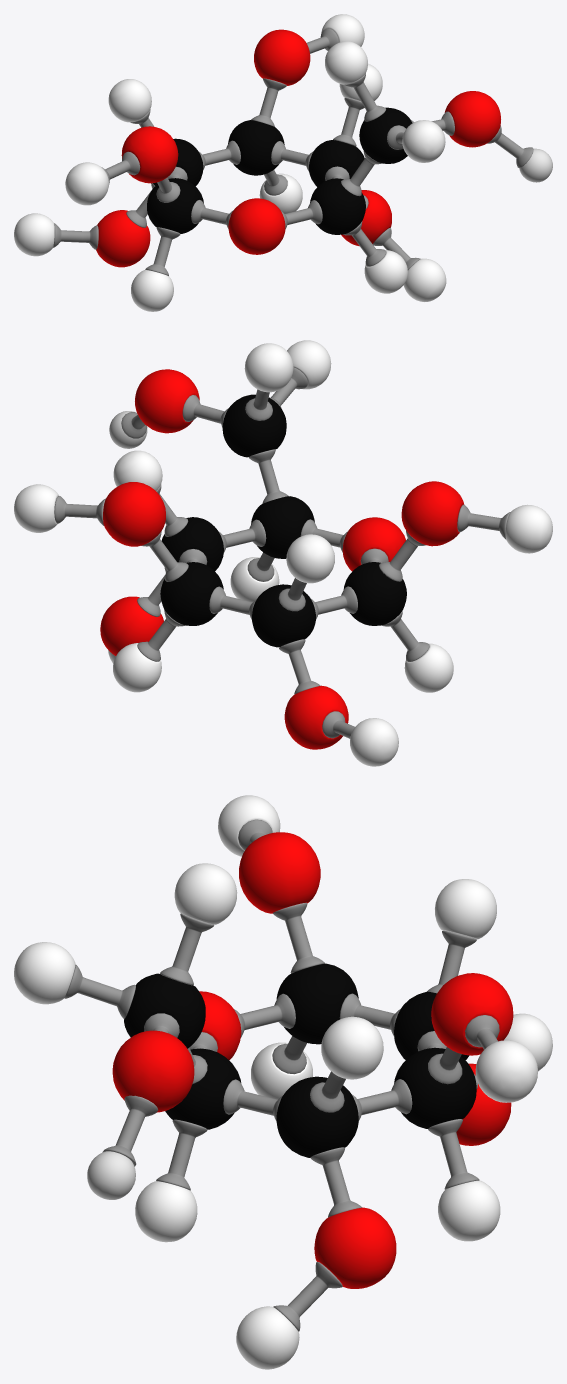
Rendered from Glocose_D_Form.glb.
3 views of the same model, one above another, from view 1: azimuth 30°, elevation 25°; view 2: azimuth 150°, elevation 25°; view 3: azimuth 270°, elevation 25° (orthographic). The views are drawn at different scales.
Parts seen in each view (by area): view 1: Glucose_Molecular_Model.001; view 2: Glucose_Molecular_Model.001; view 3: Glucose_Molecular_Model.001.
Boxes of the visible parts, x1=… form: Glucose_Molecular_Model.001: x1=14, y1=14, x2=552, y2=311; Glucose_Molecular_Model.001: x1=14, y1=340, x2=552, y2=766; Glucose_Molecular_Model.001: x1=14, y1=795, x2=552, y2=1369.
Bounding box in the file's own units: 23.01 × 15 × 17.04.
3 materials, 2 textured.
